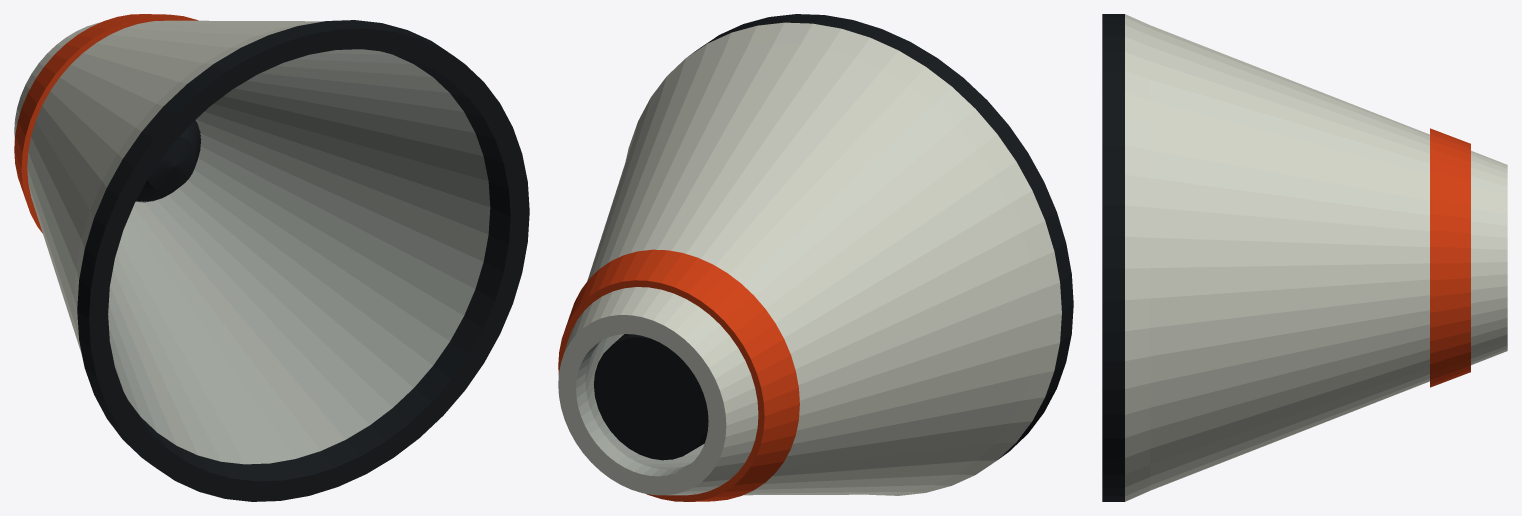
Rendered from MegaphoneNormal_Horn.obj.
The picture shows the model from 3 angles, left to right: view 1: azimuth 30°, elevation 25°; view 2: azimuth 150°, elevation 25°; view 3: azimuth 270°, elevation 25°; orthographic projection. The views are drawn at different scales.
Visible parts, largest first — view 1: InnerPlastic, BlackPlastic, WhitePlastic, OrangeTrim; view 2: WhitePlastic, BlackPlastic, OrangeTrim, InnerPlastic; view 3: WhitePlastic, BlackPlastic, OrangeTrim.
Boxes of the visible parts, box(x1,y1,x2,y2) form: InnerPlastic: box(108, 49, 490, 464); BlackPlastic: box(77, 20, 529, 501); WhitePlastic: box(14, 20, 325, 362); OrangeTrim: box(14, 14, 198, 233); WhitePlastic: box(558, 22, 1061, 495); BlackPlastic: box(594, 14, 1073, 460); OrangeTrim: box(558, 249, 799, 501); InnerPlastic: box(576, 334, 704, 476); WhitePlastic: box(1125, 14, 1507, 501); BlackPlastic: box(1102, 14, 1124, 501); OrangeTrim: box(1430, 128, 1470, 387).
Bounding box in the file's own units: 0.346 × 0.346 × 0.287.
